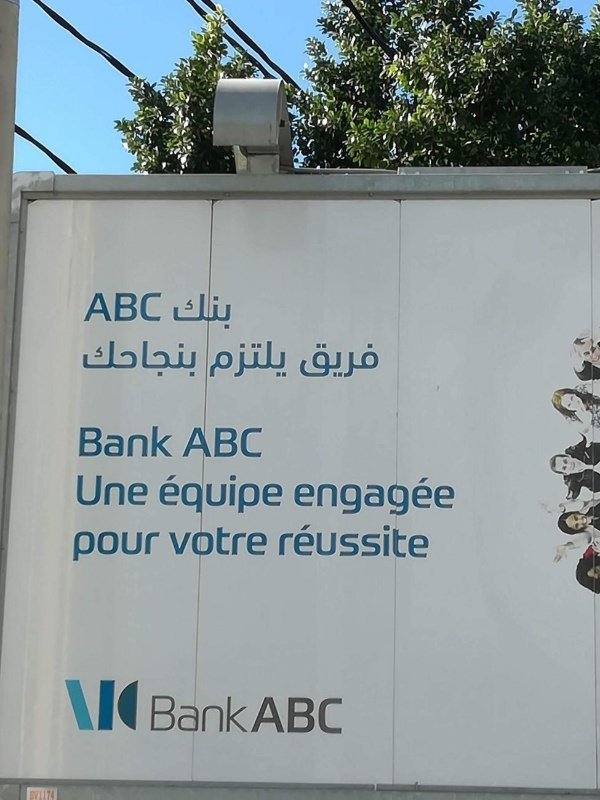text: (161, 473, 176, 516), (177, 473, 192, 516), (193, 473, 208, 516), (209, 473, 224, 516), (225, 473, 240, 516), (241, 473, 256, 516), (257, 473, 272, 516), (257, 695, 272, 737), (273, 695, 288, 737), (289, 695, 304, 737), (305, 695, 320, 737), (321, 695, 336, 737), (305, 340, 320, 381), (321, 340, 336, 381), (337, 340, 352, 381), (353, 340, 368, 381), (305, 477, 320, 517), (321, 477, 336, 517), (337, 477, 352, 517), (353, 477, 368, 517), (369, 477, 384, 517), (385, 477, 400, 517), (401, 477, 416, 517), (417, 477, 432, 517), (433, 477, 448, 517), (161, 695, 176, 735), (177, 695, 192, 735), (193, 695, 208, 735), (209, 695, 224, 735), (225, 695, 240, 735), (289, 522, 304, 561), (305, 522, 320, 561), (321, 522, 336, 561), (337, 522, 352, 561), (353, 522, 368, 561), (369, 522, 384, 561), (385, 522, 400, 561), (401, 522, 416, 561), (177, 293, 192, 331), (193, 293, 208, 331), (209, 293, 224, 331), (225, 340, 240, 378), (241, 340, 256, 378), (257, 340, 272, 378), (273, 340, 288, 378), (97, 340, 112, 378), (113, 340, 128, 378), (129, 340, 144, 378), (145, 340, 160, 378), (161, 340, 176, 378), (177, 340, 192, 378), (145, 529, 161, 564), (193, 423, 208, 460), (209, 423, 224, 460), (225, 423, 240, 460), (241, 423, 256, 460), (274, 522, 288, 561), (81, 529, 96, 564), (97, 529, 112, 564), (113, 529, 128, 564), (129, 529, 144, 564), (273, 473, 285, 516), (81, 424, 96, 458), (97, 424, 112, 458), (113, 424, 128, 458), (129, 424, 144, 458), (145, 424, 160, 458), (81, 474, 96, 507), (97, 474, 112, 507), (113, 474, 128, 507), (129, 474, 144, 507), (211, 340, 224, 378), (369, 340, 381, 381), (97, 292, 112, 324), (113, 292, 128, 324), (129, 292, 144, 324), (145, 292, 160, 324), (292, 477, 304, 517), (177, 525, 192, 557), (193, 525, 208, 557), (209, 525, 224, 557), (225, 525, 240, 557), (241, 525, 256, 557), (417, 522, 429, 561), (84, 340, 96, 378), (161, 424, 173, 458), (257, 423, 268, 460), (257, 525, 269, 557), (337, 695, 346, 737), (449, 477, 457, 517), (152, 695, 160, 735), (241, 695, 249, 735), (225, 293, 233, 331), (193, 340, 201, 378), (167, 525, 176, 557), (298, 340, 304, 381), (73, 529, 80, 564), (89, 292, 96, 324), (33, 790, 48, 800), (76, 474, 80, 507), (145, 474, 149, 507), (253, 695, 256, 737), (173, 293, 176, 331), (161, 292, 164, 324), (49, 790, 57, 800), (78, 424, 80, 458), (191, 423, 192, 460), (29, 790, 32, 800)
